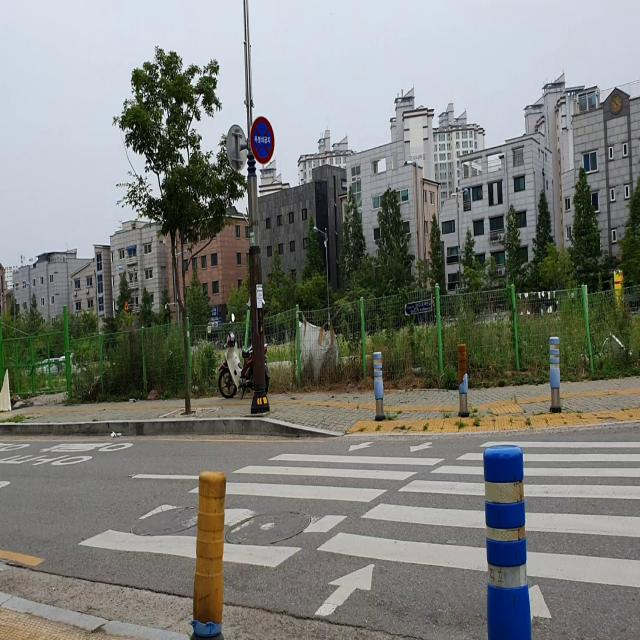횡단보도: (75, 434, 640, 629)
